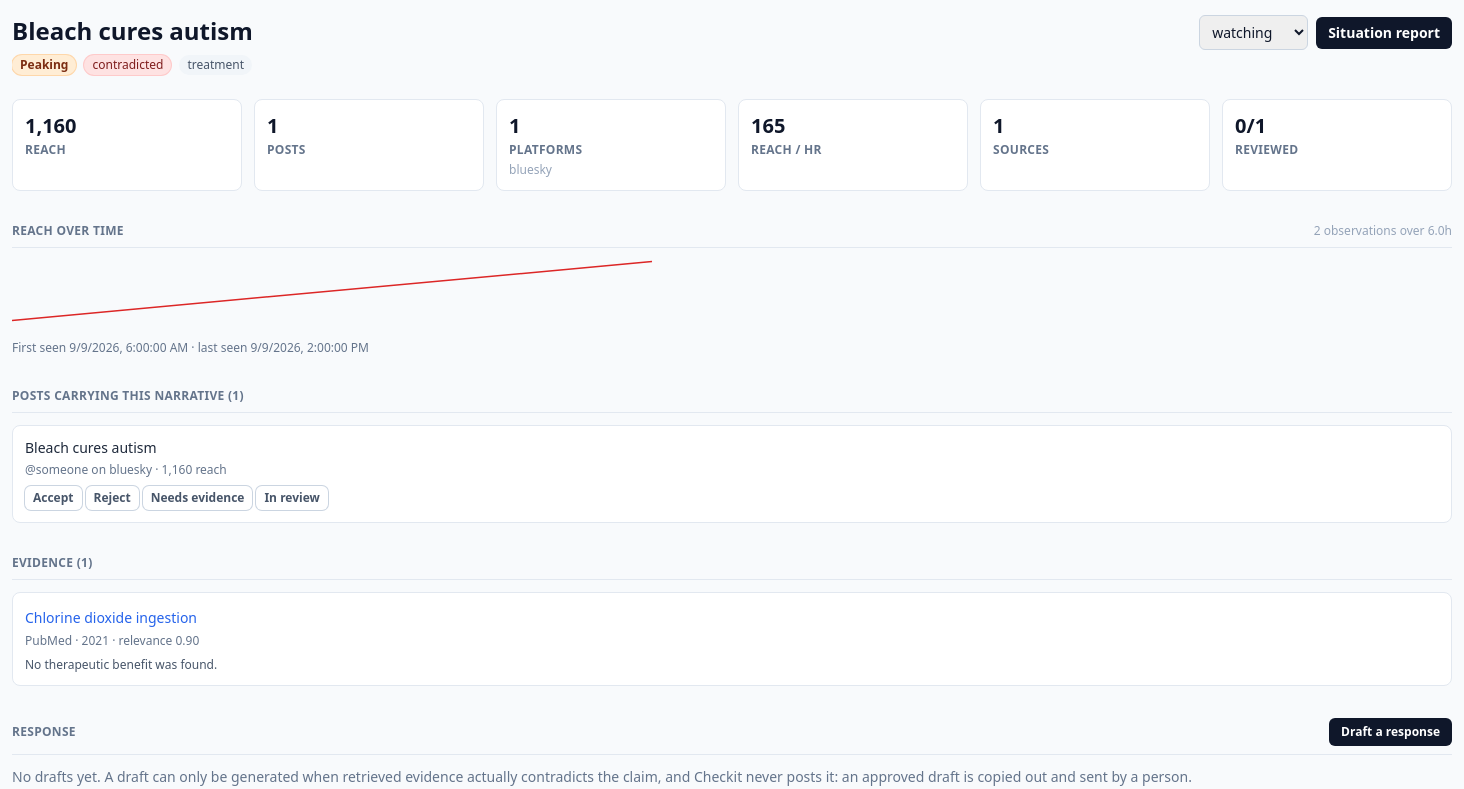
Test: NarrativePage › shows a generated draft slot by slot with its protocol
Click the button "Draft a response": (1391, 732) x1=1329 y1=718 x2=1452 y2=746
(page scrolled)
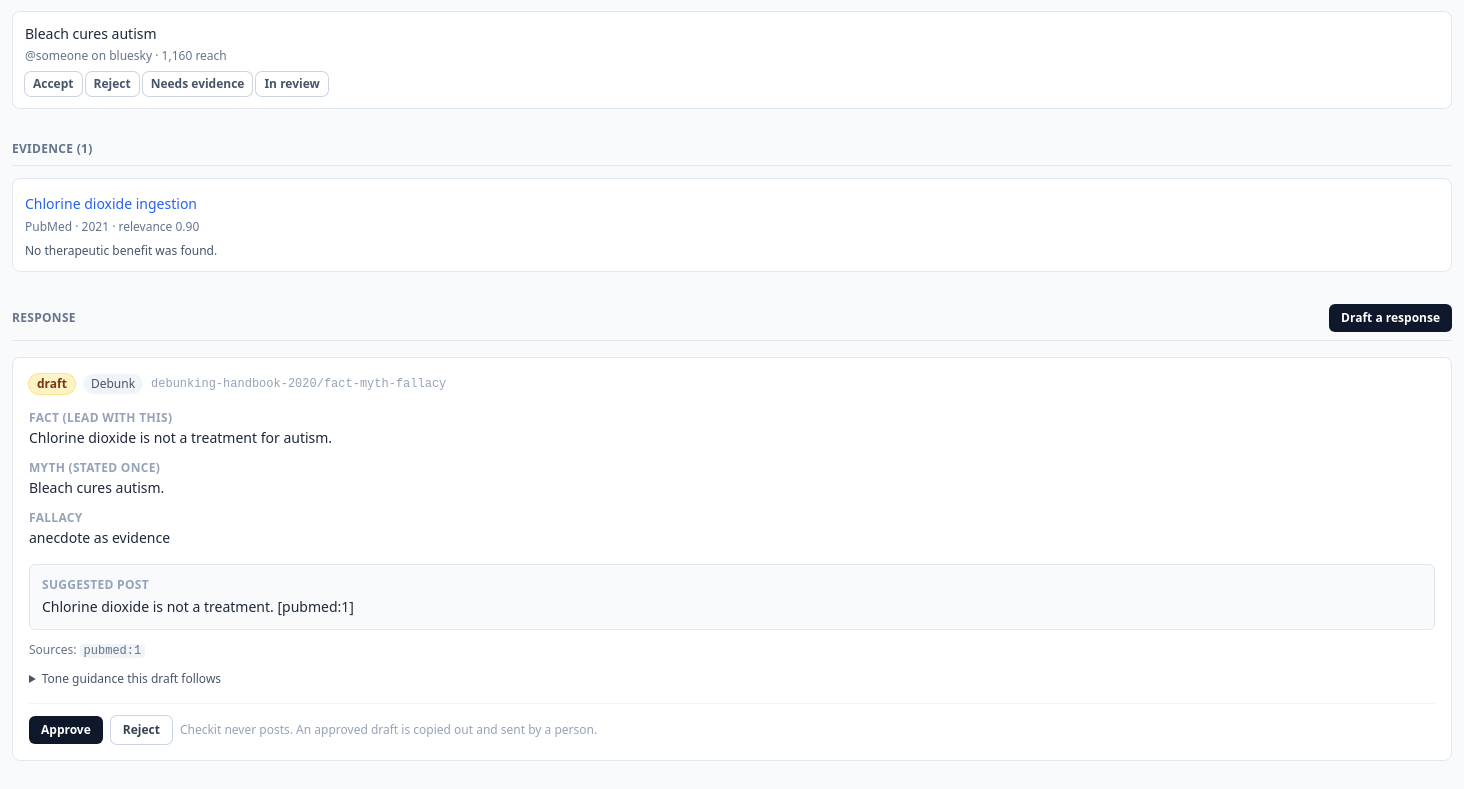
Check: the text "Chlorine dioxide is not a treatment for autism." is shown, box x1=29 y1=428 x2=332 y2=447
Check: the text "Fact (lead with this)" is shown, box x1=29 y1=409 x2=172 y2=426
Check: the text "Myth (stated once)" is shown, box x1=29 y1=459 x2=160 y2=476
